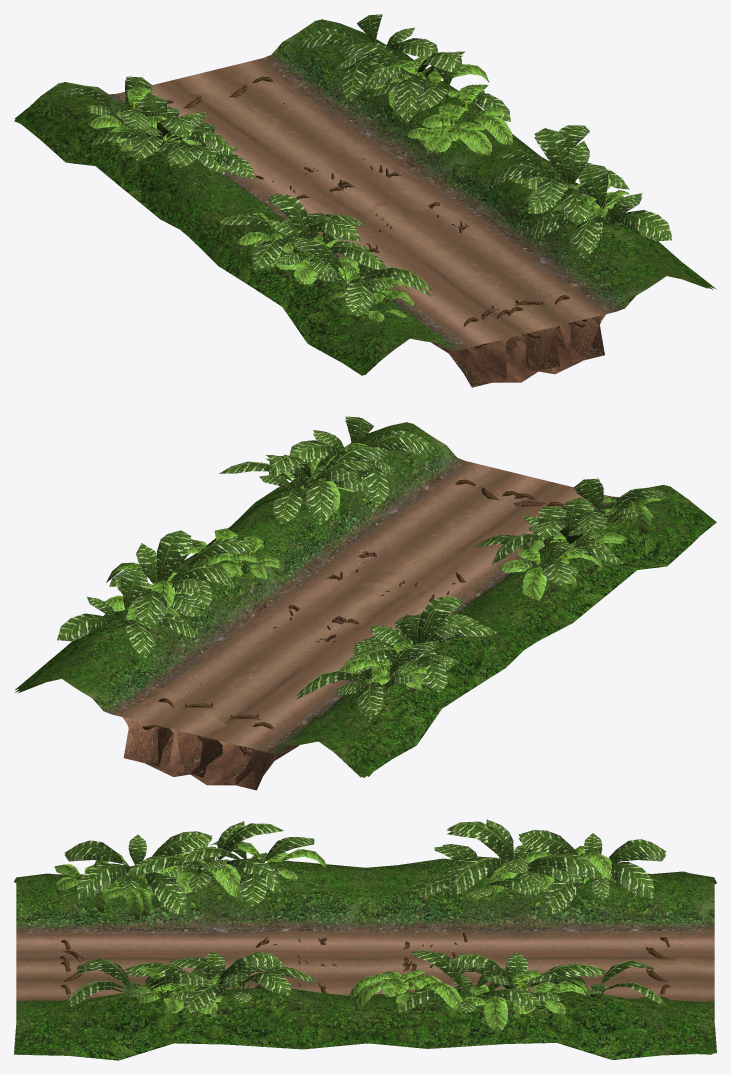
The model's file is runner-game-models--track-pit.glb.
The picture shows the model from 3 angles, top to bottom: view 1: azimuth 30°, elevation 25°; view 2: azimuth 150°, elevation 25°; view 3: azimuth 270°, elevation 25°; orthographic projection.
Parts seen in each view (by area): view 1: Track_Segment_HOLE_SINGLE_RIGHT_END_NEW, Track_Segment_HOLE_SINGLE_LEFT_START_NEW, Track_Segment_HOLE_SINGLE_RIGHT_NEW, Track_Segment_HOLE_SINGLE_LEFT, Track_Segment_HOLE_SINGLE_RIGHT_START_NEW, Track_Segment_HOLE_SINGLE_CENTER_START_NEW, Track_Segment_HOLE_SINGLE_LEFT_START_VEGETATION_NEW, Track_Segment_HOLE_SINGLE_LEFT_VEGETATION, Track_Segment_HOLE_SINGLE_RIGHT_START_VEGETATION_NEW, Track_Segment_HOLE_SINGLE_RIGHT_VEGETATION_NEW, Track_Segment_HOLE_SINGLE_CENTER_END_NEW, Track_Segment_HOLE_DOUBLE_LEFT_VEGETATION (+14 smaller); view 2: Track_Segment_HOLE_SINGLE_RIGHT_END_NEW, Track_Segment_HOLE_SINGLE_LEFT_START_NEW, Track_Segment_HOLE_SINGLE_RIGHT_NEW, Track_Segment_HOLE_SINGLE_RIGHT_START_NEW, Track_Segment_HOLE_SINGLE_LEFT, Track_Segment_HOLE_SINGLE_LEFT_START_VEGETATION_NEW, Track_Segment_HOLE_SINGLE_RIGHT_VEGETATION_NEW, Track_Segment_HOLE_SINGLE_LEFT_VEGETATION, Track_Segment_HOLE_SINGLE_RIGHT_START_VEGETATION_NEW, Track_Segment_HOLE_SINGLE_CENTER_END_NEW, Track_Segment_HOLE_SINGLE_CENTER_START_NEW, Track_Segment_HOLE_SINGLE_CENTER_END_VEGETATION_NEW (+15 smaller); view 3: Track_Segment_HOLE_SINGLE_RIGHT_NEW, Track_Segment_HOLE_SINGLE_CENTER_START_NEW, Track_Segment_HOLE_SINGLE_LEFT_START_NEW, Track_Segment_HOLE_SINGLE_RIGHT_VEGETATION_NEW, Track_Segment_HOLE_SINGLE_RIGHT_START_VEGETATION_NEW, Track_Segment_HOLE_SINGLE_RIGHT_END_NEW, Track_Segment_HOLE_SINGLE_LEFT_START_VEGETATION_NEW, Track_Segment_HOLE_SINGLE_LEFT, Track_Segment_HOLE_SINGLE_LEFT_END_VEGETATION_NEW, Track_Segment_HOLE_SINGLE_LEFT_END_NEW, Track_Segment_HOLE_SINGLE_CENTER_END_VEGETATION_NEW, Track_Segment_HOLE_SINGLE_CENTER_VEGETATION (+17 smaller).
Boxes of the visible parts, box(x1,y1,x2,y2) form: Track_Segment_HOLE_SINGLE_RIGHT_END_NEW: box(45, 19, 683, 374); Track_Segment_HOLE_SINGLE_LEFT_START_NEW: box(14, 20, 681, 375); Track_Segment_HOLE_SINGLE_RIGHT_NEW: box(63, 19, 699, 387); Track_Segment_HOLE_SINGLE_LEFT: box(14, 20, 708, 375); Track_Segment_HOLE_SINGLE_RIGHT_START_NEW: box(215, 59, 716, 386); Track_Segment_HOLE_SINGLE_CENTER_START_NEW: box(47, 20, 710, 373); Track_Segment_HOLE_SINGLE_LEFT_START_VEGETATION_NEW: box(110, 14, 438, 271); Track_Segment_HOLE_SINGLE_LEFT_VEGETATION: box(115, 94, 668, 283); Track_Segment_HOLE_SINGLE_RIGHT_START_VEGETATION_NEW: box(57, 56, 608, 223); Track_Segment_HOLE_SINGLE_RIGHT_VEGETATION_NEW: box(292, 43, 624, 312); Track_Segment_HOLE_SINGLE_CENTER_END_NEW: box(155, 28, 678, 341); Track_Segment_HOLE_DOUBLE_LEFT_VEGETATION: box(89, 84, 512, 322); Track_Segment_HOLE_SINGLE_RIGHT_END_NEW: box(42, 423, 699, 790); Track_Segment_HOLE_SINGLE_LEFT_START_NEW: box(21, 423, 716, 777); Track_Segment_HOLE_SINGLE_RIGHT_NEW: box(14, 422, 670, 789); Track_Segment_HOLE_SINGLE_RIGHT_START_NEW: box(155, 422, 665, 760); Track_Segment_HOLE_SINGLE_LEFT: box(65, 423, 716, 776); Track_Segment_HOLE_SINGLE_LEFT_START_VEGETATION_NEW: box(57, 497, 611, 684); Track_Segment_HOLE_SINGLE_RIGHT_VEGETATION_NEW: box(117, 455, 668, 625); Track_Segment_HOLE_SINGLE_LEFT_VEGETATION: box(292, 417, 628, 674); Track_Segment_HOLE_SINGLE_RIGHT_START_VEGETATION_NEW: box(105, 447, 438, 716); Track_Segment_HOLE_SINGLE_CENTER_END_NEW: box(64, 423, 663, 776); Track_Segment_HOLE_SINGLE_CENTER_START_NEW: box(18, 424, 665, 752); Track_Segment_HOLE_SINGLE_CENTER_END_VEGETATION_NEW: box(106, 441, 623, 609); Track_Segment_HOLE_SINGLE_RIGHT_NEW: box(15, 862, 716, 1060); Track_Segment_HOLE_SINGLE_CENTER_START_NEW: box(14, 861, 714, 1059); Track_Segment_HOLE_SINGLE_LEFT_START_NEW: box(16, 860, 716, 1020); Track_Segment_HOLE_SINGLE_RIGHT_VEGETATION_NEW: box(64, 831, 606, 1012); Track_Segment_HOLE_SINGLE_RIGHT_START_VEGETATION_NEW: box(124, 830, 666, 1011); Track_Segment_HOLE_SINGLE_RIGHT_END_NEW: box(18, 858, 714, 1054); Track_Segment_HOLE_SINGLE_LEFT_START_VEGETATION_NEW: box(124, 821, 666, 1005); Track_Segment_HOLE_SINGLE_LEFT: box(14, 859, 714, 1017); Track_Segment_HOLE_SINGLE_LEFT_END_VEGETATION_NEW: box(64, 821, 601, 1005); Track_Segment_HOLE_SINGLE_LEFT_END_NEW: box(45, 873, 716, 1050); Track_Segment_HOLE_SINGLE_CENTER_END_VEGETATION_NEW: box(136, 837, 552, 1035); Track_Segment_HOLE_SINGLE_CENTER_VEGETATION: box(169, 846, 616, 1014).
Bounding box in the file's own units: 9.99 × 3.44 × 16.11.
Materials: 45 (45 with a texture image).
